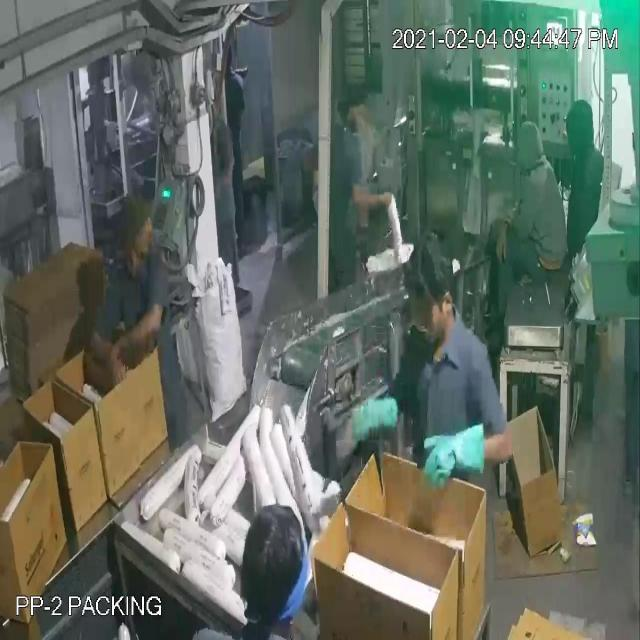No_Gloves: (28, 46, 505, 446)
